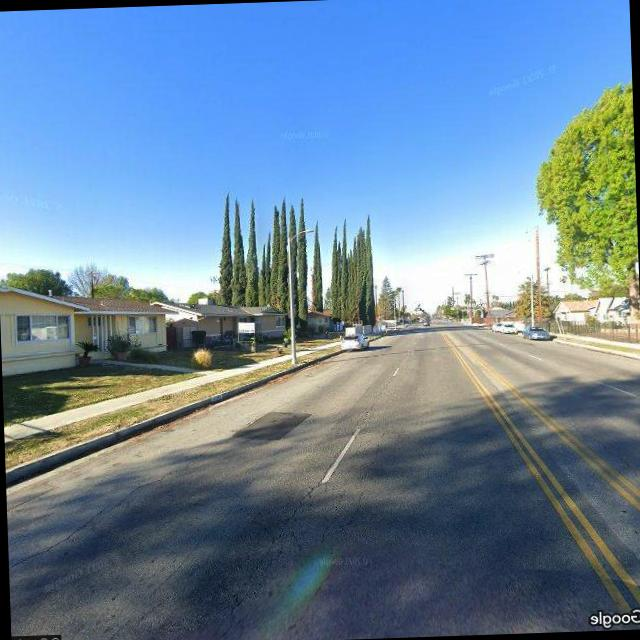crack: (267, 429, 391, 553)
pothole: (24, 454, 193, 556)
